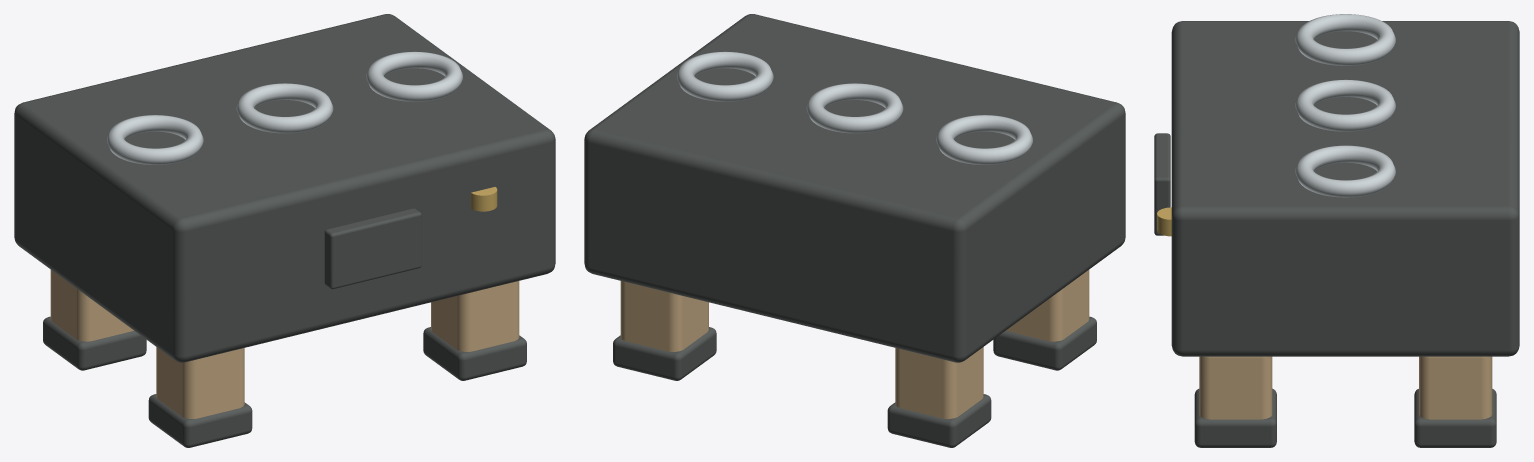
File: bookbinding-and-paper-mill-finishing-stove-cbf1f456__30575.glb
The picture shows the model from 3 angles, left to right: view 1: azimuth 30°, elevation 25°; view 2: azimuth 150°, elevation 25°; view 3: azimuth 270°, elevation 25°; orthographic projection. The views are drawn at different scales.
Visible parts, largest first — view 1: finishing-stove; view 2: finishing-stove; view 3: finishing-stove.
Part boxes in pixels (x1,y1,x2,y2): finishing-stove: [14, 14, 555, 447]; finishing-stove: [584, 14, 1125, 447]; finishing-stove: [1154, 14, 1519, 447].
Size of the model in its own units: 0.5 by 0.32 by 0.399.
